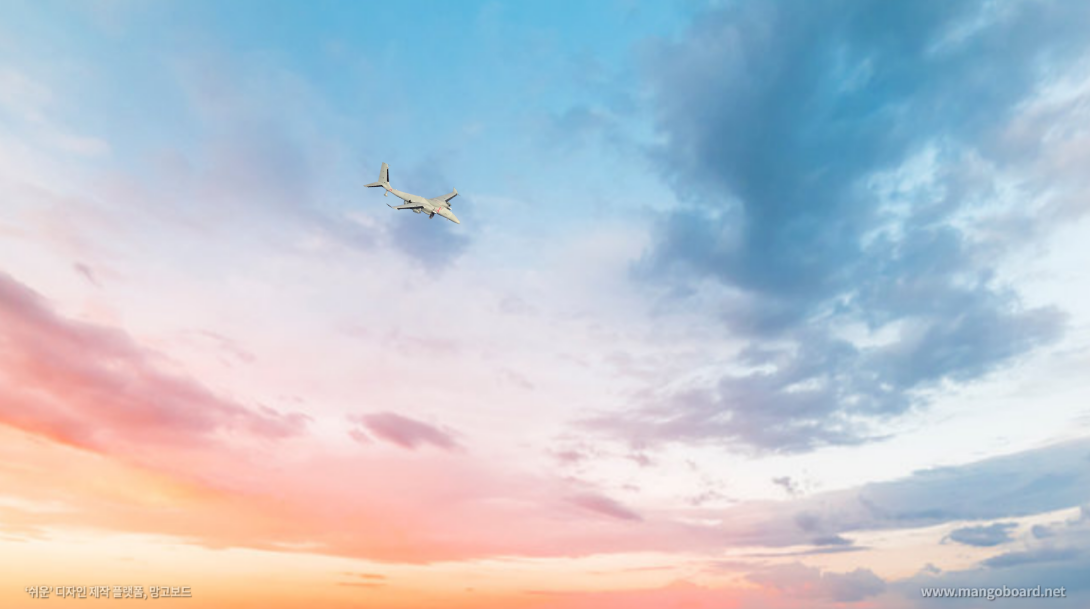military drone: (363, 161, 460, 224)
